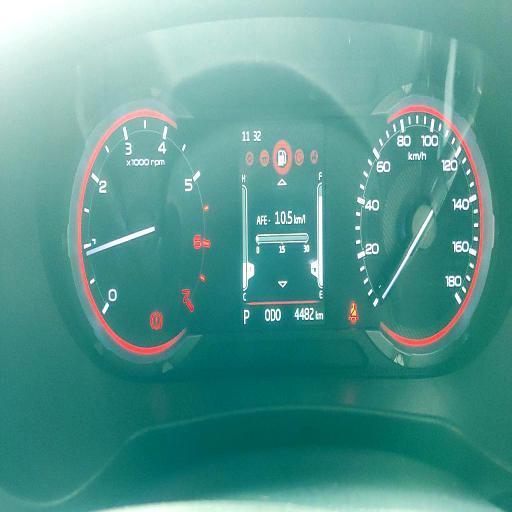belt: (348, 302, 358, 325)
brake_system_fault: (150, 312, 163, 330)
tachometer: (78, 108, 214, 351)
